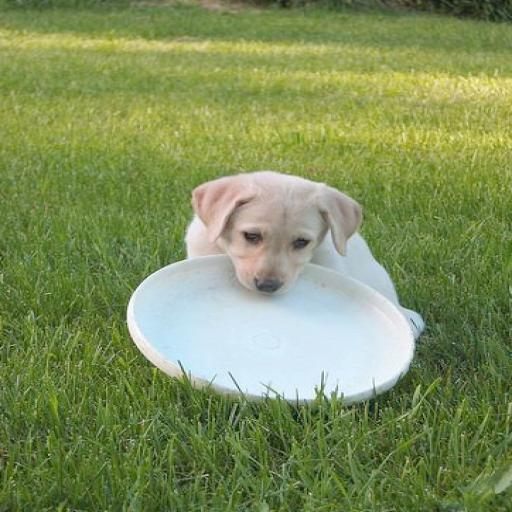dog_face: (186, 166, 361, 301)
